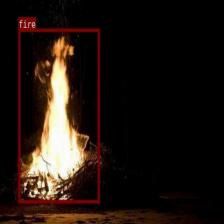fire: (19, 28, 100, 203)
